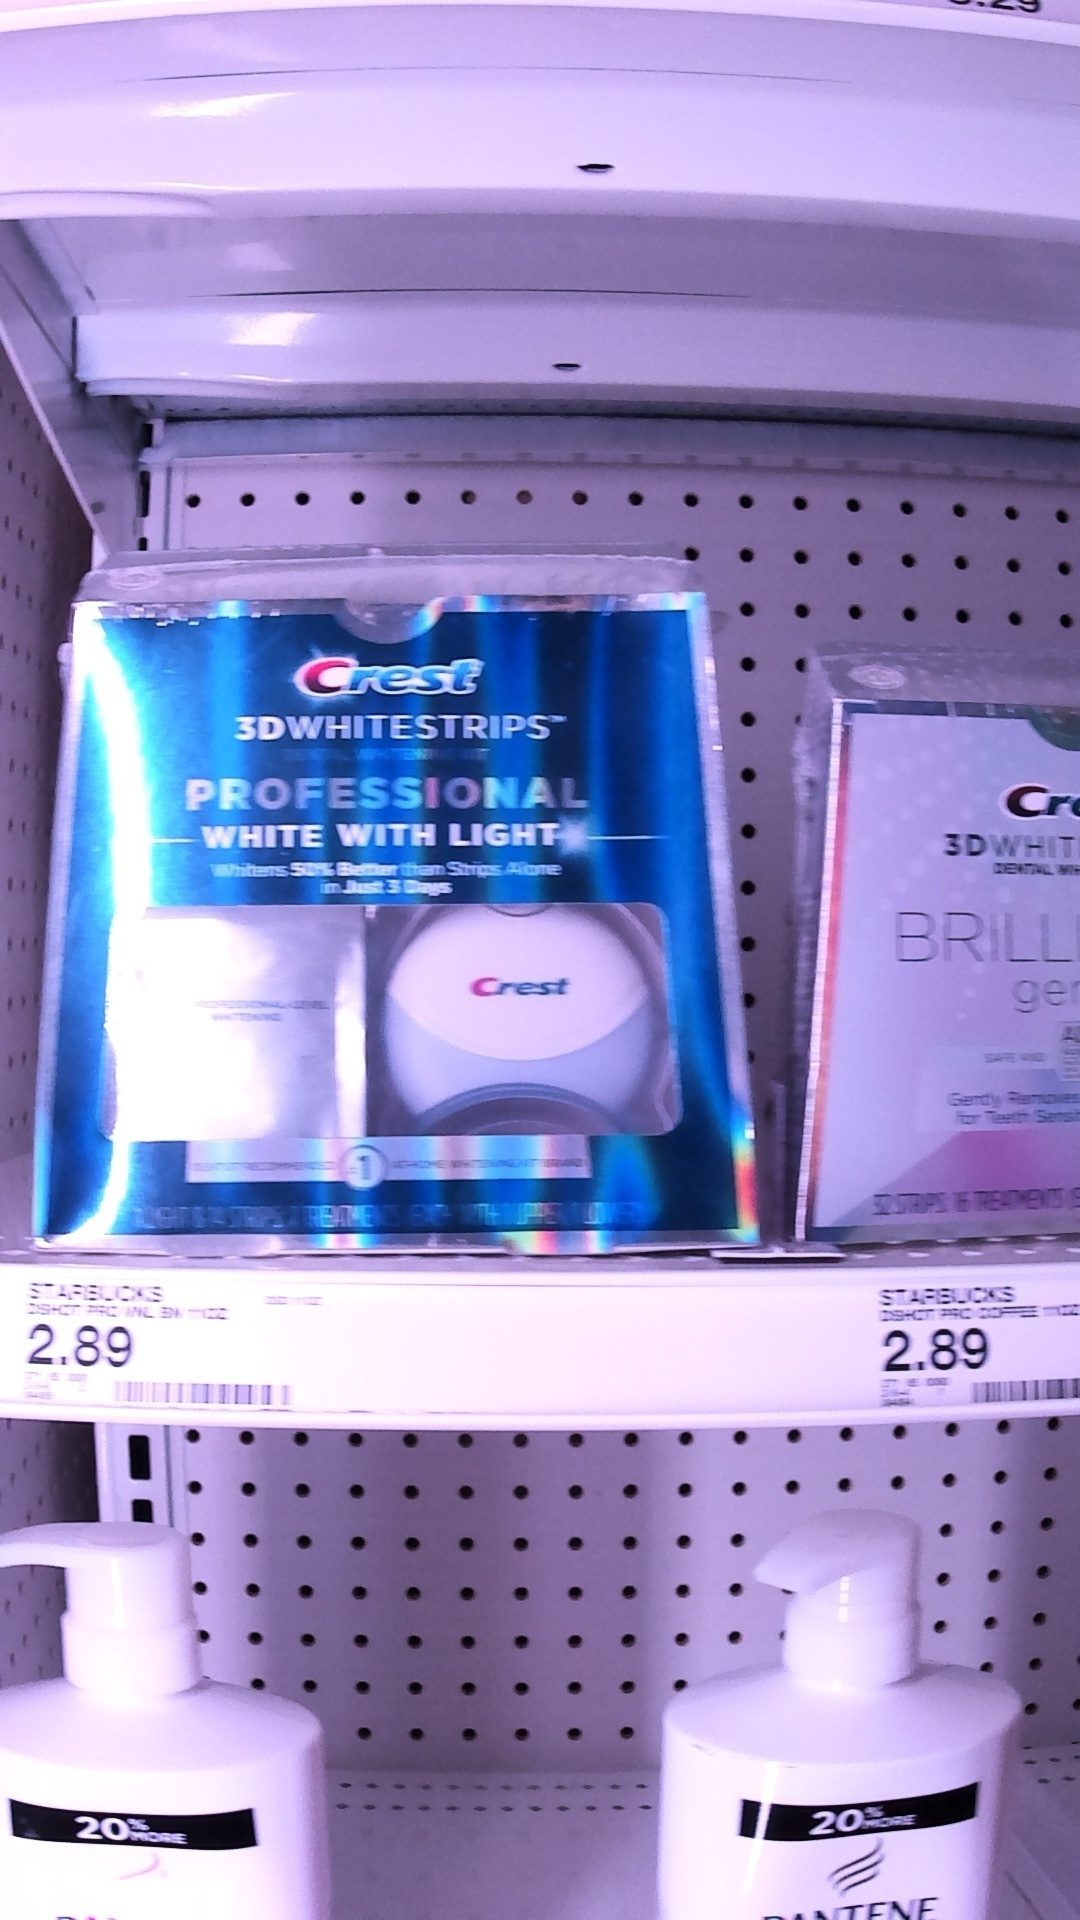ptag: (11, 1257, 315, 1429), (858, 1262, 1080, 1422)
